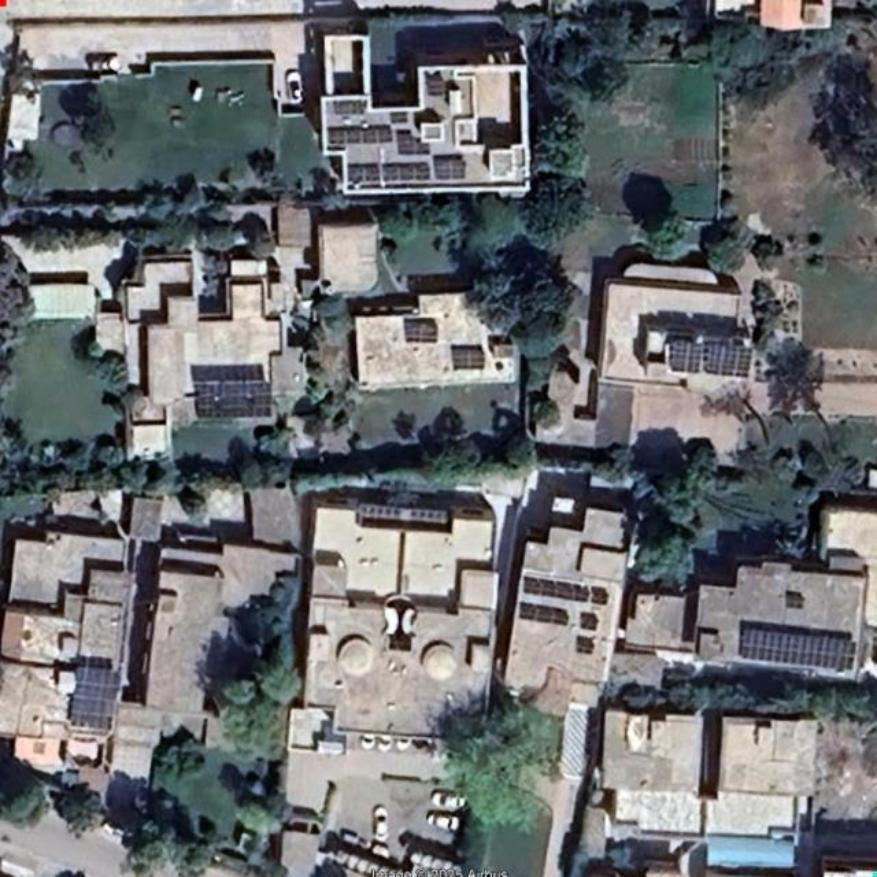Solarpanel: (742, 631, 859, 667), (673, 340, 755, 378), (192, 380, 272, 417), (73, 669, 118, 729), (523, 578, 607, 605), (326, 124, 388, 141), (520, 603, 567, 625), (386, 162, 428, 181), (348, 164, 381, 182), (453, 350, 483, 368), (405, 325, 436, 340), (436, 162, 464, 178), (397, 139, 429, 153)
